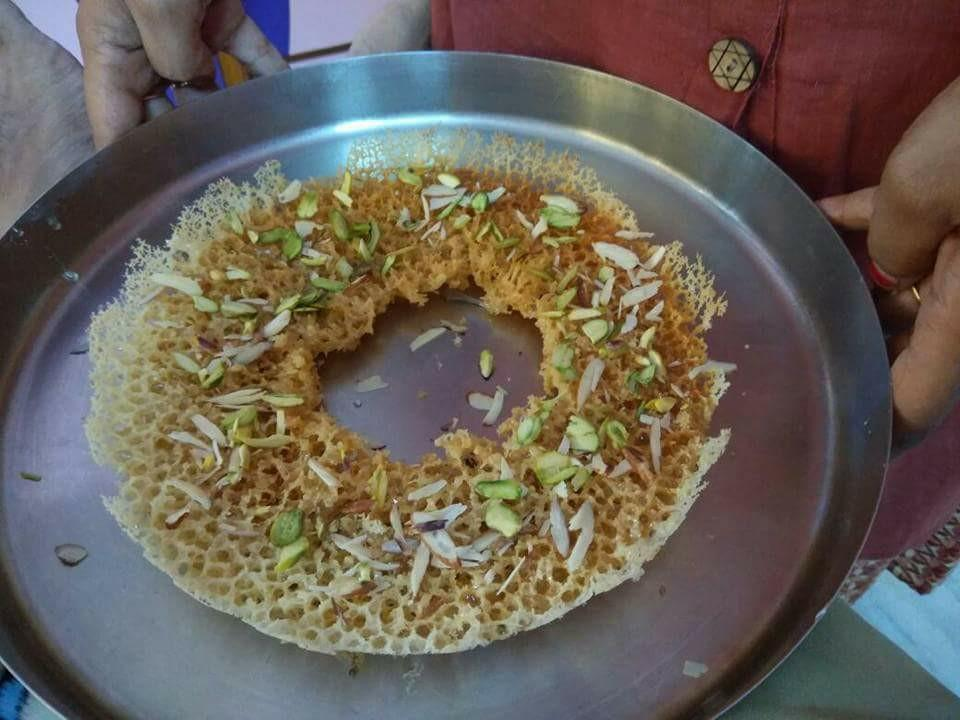Ghevar: (89, 127, 740, 662)
